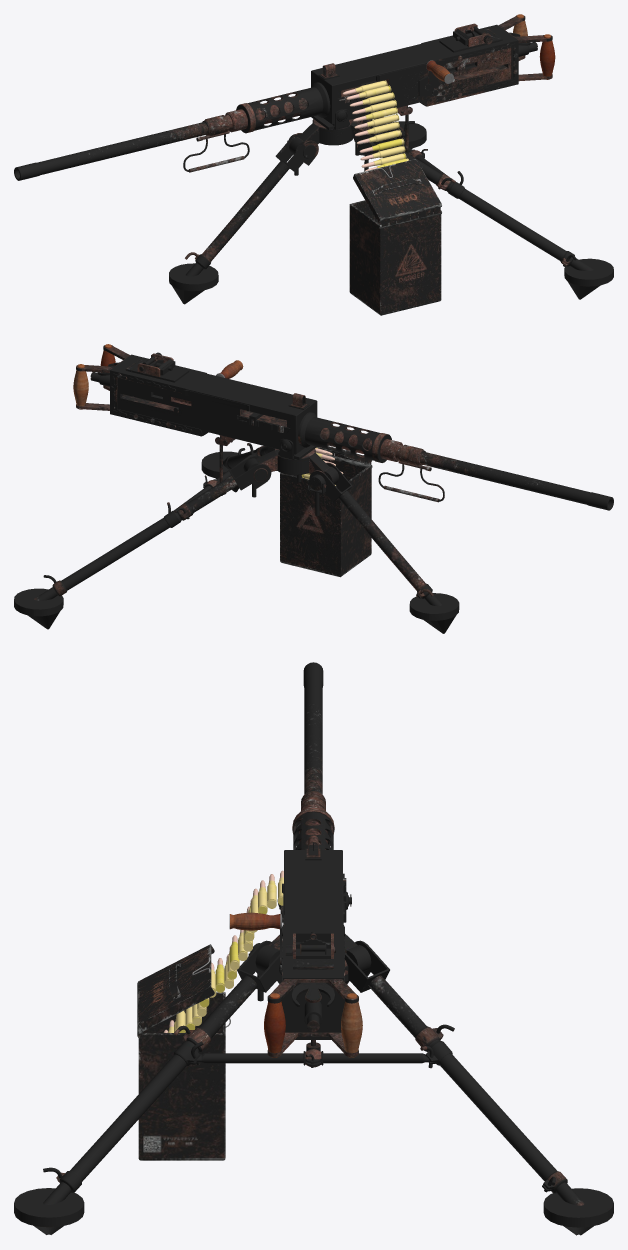
Rendered from m2_browning_machine_gun.glb.
The picture shows the model from 3 angles, top to bottom: view 1: azimuth 30°, elevation 25°; view 2: azimuth 150°, elevation 25°; view 3: azimuth 270°, elevation 25°; orthographic projection. The views are drawn at different scales.
Visible parts, largest first — view 1: g (×24); view 2: g (×21); view 3: g (×19).
Boxes of the visible parts, x1,y1,x2,y2 form: g (×24): (37, 16, 613, 315); g (×21): (14, 345, 591, 633); g (×19): (14, 675, 613, 1235).
Bounding box in the file's own units: 2 × 0.7549 × 1.41.
Materials: 11 (11 with a texture image).
